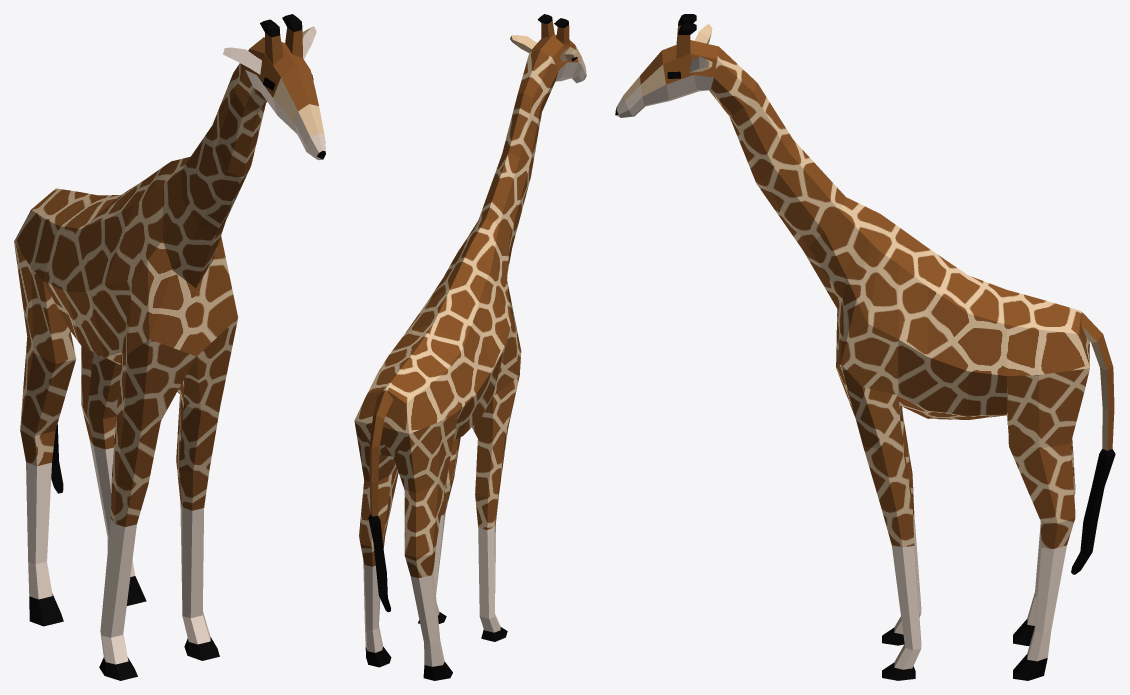
The model's file is Mesh_Giraffe.obj.
The picture shows the model from 3 angles, left to right: view 1: azimuth 30°, elevation 25°; view 2: azimuth 150°, elevation 25°; view 3: azimuth 270°, elevation 25°; orthographic projection. The views are drawn at different scales.
Parts seen in each view (by area): view 1: Geo_Giraffe; view 2: Geo_Giraffe; view 3: Geo_Giraffe.
Part boxes in pixels (left/top/right/bottom): Geo_Giraffe: left=14, top=14, right=325, bottom=680; Geo_Giraffe: left=354, top=14, right=586, bottom=680; Geo_Giraffe: left=615, top=14, right=1115, bottom=680.
Bounding box in the file's own units: 58.77 × 362 × 258.
Materials: 1 (1 with a texture image).
